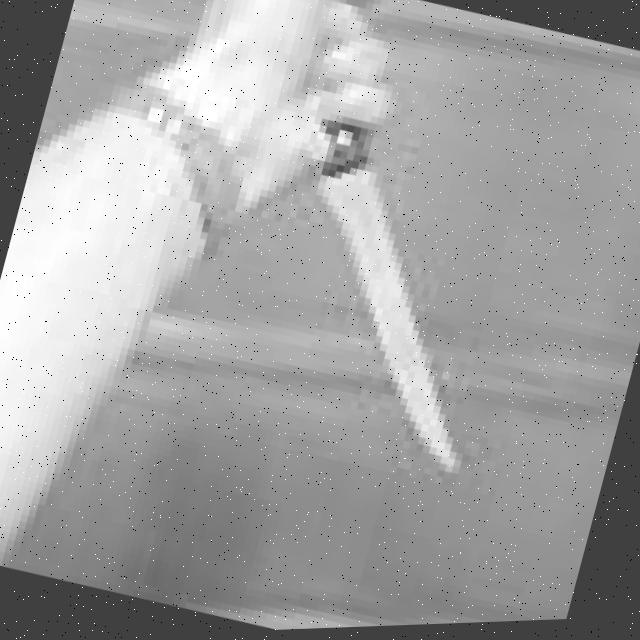knife: (238, 112, 542, 487)
